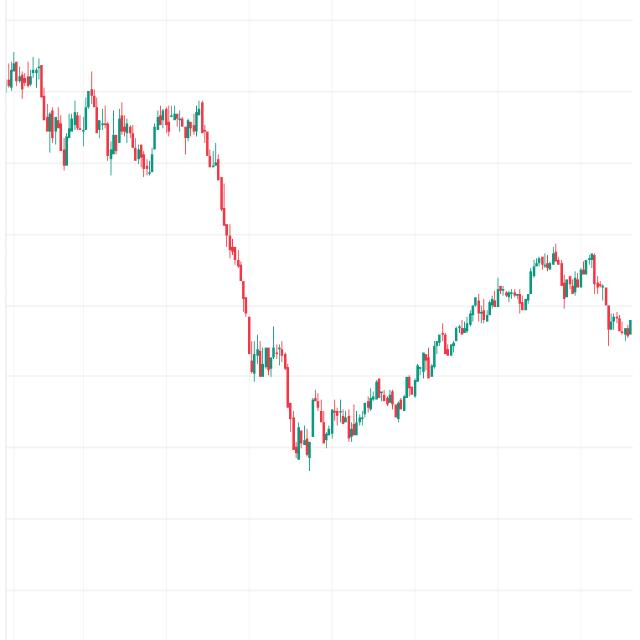Rising-Wedge: (278, 269, 533, 516)
